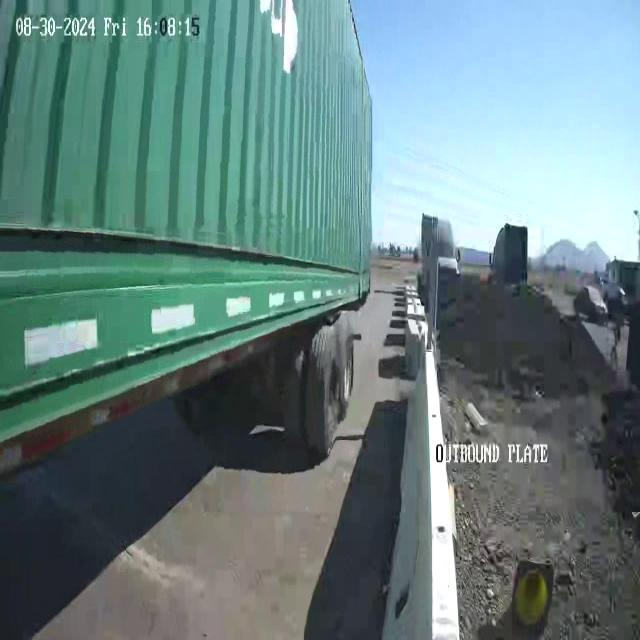CONTAINER: (0, 3, 382, 463)
